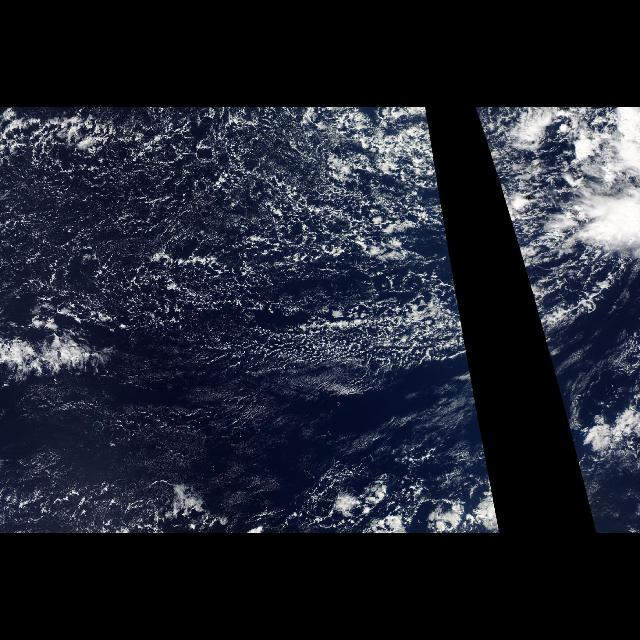Gravel: (2, 109, 500, 531), (475, 109, 629, 421)
Sugar: (12, 388, 492, 484)
